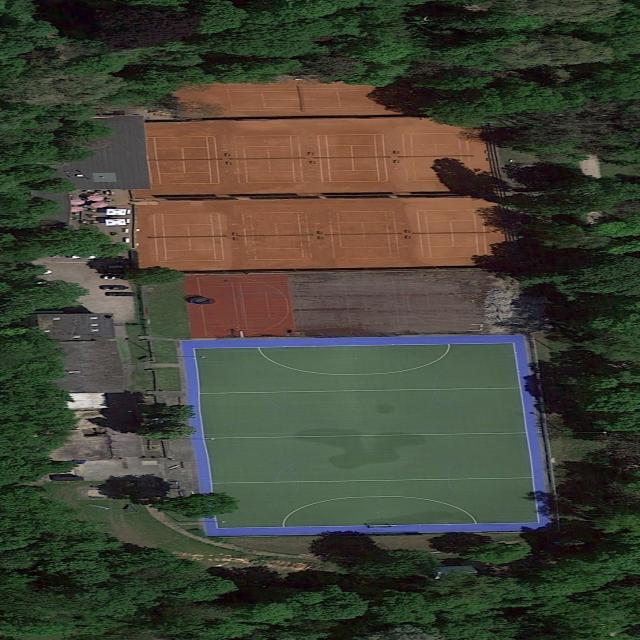small-vehicle: (106, 292, 137, 296), (101, 286, 129, 290), (105, 276, 127, 280)
